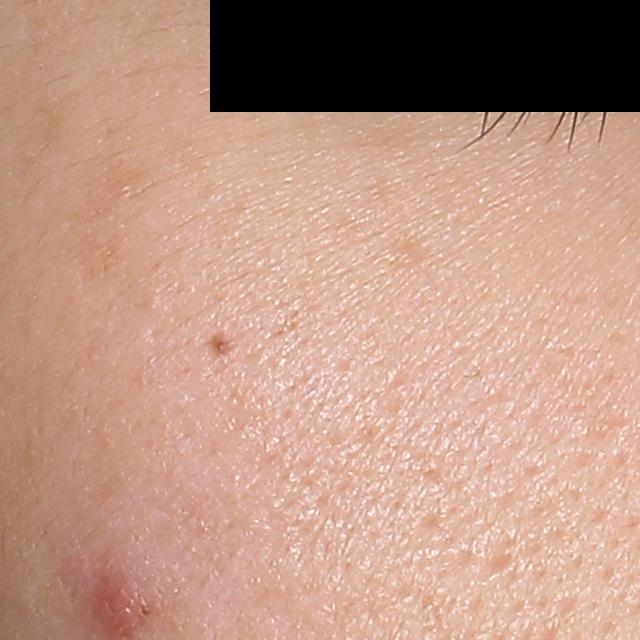atrophic_scar: (482, 551, 519, 583)
nevus: (204, 329, 231, 358)
